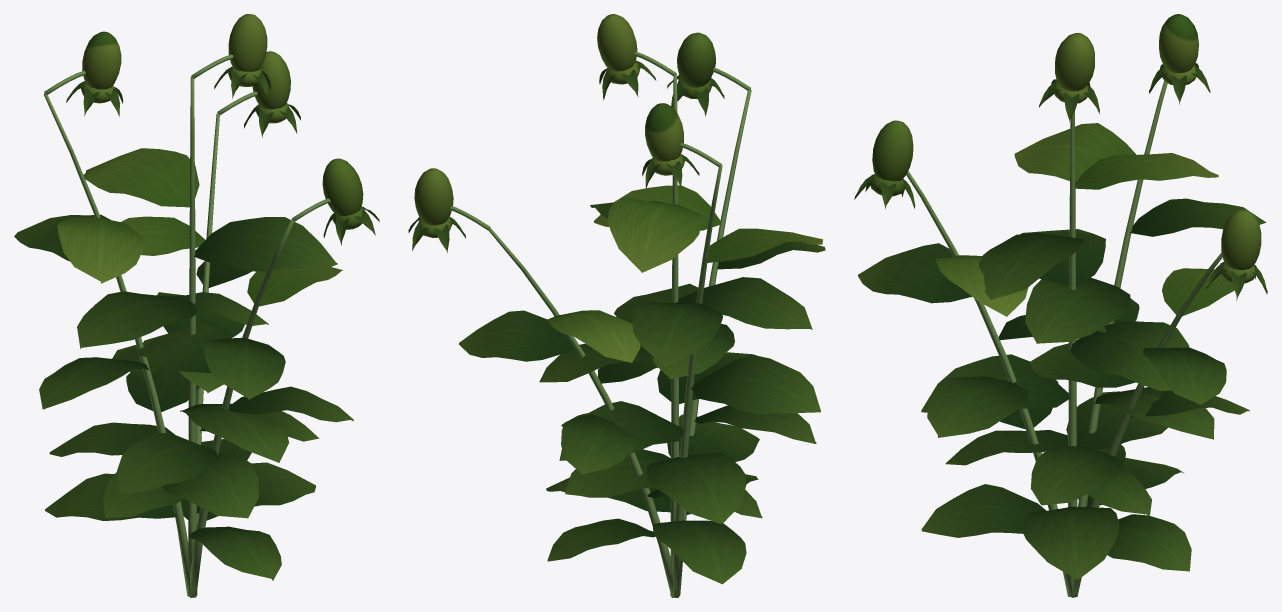
Rendered from bellflower-07-lod.glb.
The picture shows the model from 3 angles, left to right: view 1: azimuth 30°, elevation 25°; view 2: azimuth 150°, elevation 25°; view 3: azimuth 270°, elevation 25°; orthographic projection. The views are drawn at different scales.
Parts seen in each view (by area): view 1: bellflower_stage_07_leaf_veins.013, bellflower_stage_07_young_leaf.013, bellflower_stage_07_stem_fibres.013; view 2: bellflower_stage_07_leaf_veins.013, bellflower_stage_07_young_leaf.013, bellflower_stage_07_stem_fibres.013; view 3: bellflower_stage_07_leaf_veins.013, bellflower_stage_07_young_leaf.013, bellflower_stage_07_stem_fibres.013.
Boxes of the visible parts, x1,y1,x2,y2 form: bellflower_stage_07_leaf_veins.013: (14,66,379,580); bellflower_stage_07_young_leaf.013: (57,14,365,306); bellflower_stage_07_stem_fibres.013: (44,54,330,597); bellflower_stage_07_leaf_veins.013: (408,60,825,584); bellflower_stage_07_young_leaf.013: (414,14,822,362); bellflower_stage_07_stem_fibres.013: (450,51,751,597); bellflower_stage_07_leaf_veins.013: (854,63,1267,580); bellflower_stage_07_young_leaf.013: (870,14,1261,316); bellflower_stage_07_stem_fibres.013: (906,81,1222,597).
Bounding box in the file's own units: 0.3079 × 0.4975 × 0.3146.
3 materials, 2 textured.
